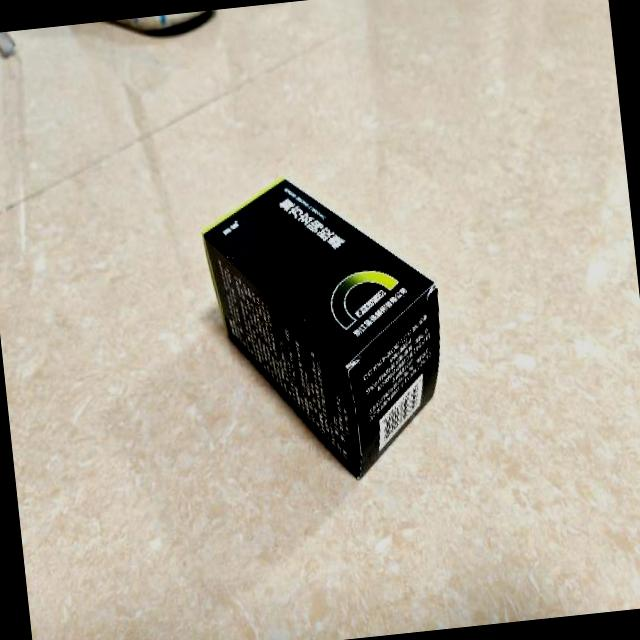box: (196, 163, 458, 492)
